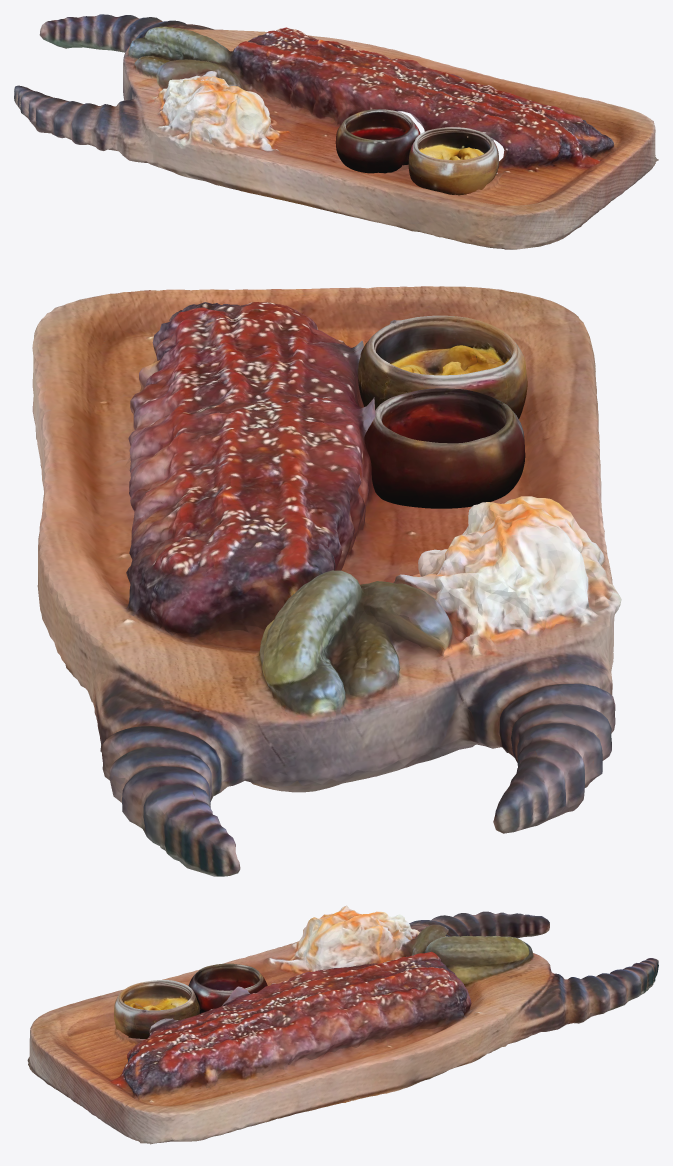
File: Dandeh.3.75.glb
3 views of the same model, one above another, from view 1: azimuth 30°, elevation 25°; view 2: azimuth 150°, elevation 25°; view 3: azimuth 270°, elevation 25° (orthographic). The views are drawn at different scales.
Visible parts, largest first — view 1: object 1, world; view 2: object 1, world; view 3: object 1, world.
Part boxes in pixels (x1,y1,x2,y2): object 1: [14, 14, 658, 249]; world: [335, 109, 498, 195]; object 1: [32, 286, 621, 876]; world: [357, 315, 527, 508]; object 1: [27, 905, 658, 1144]; world: [114, 963, 267, 1038].
Size of the model in its own units: 0.4477 by 0.0747 by 0.5752.
Materials: 4 (2 with a texture image).
